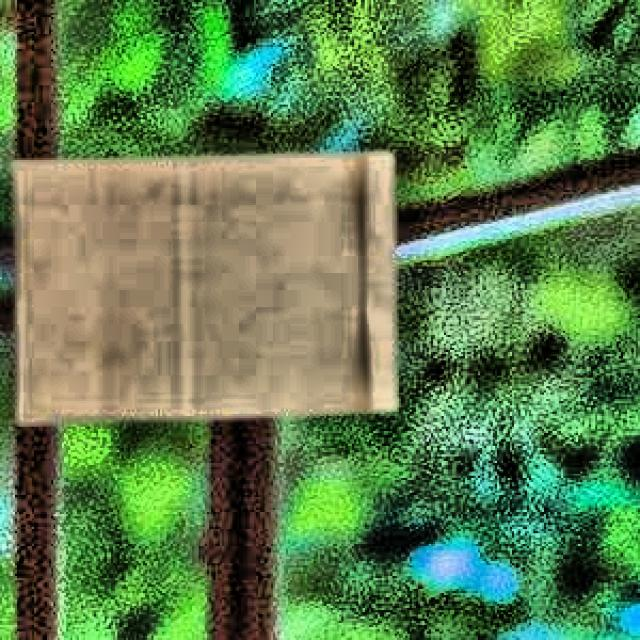Paper-bag: (7, 148, 424, 438)
